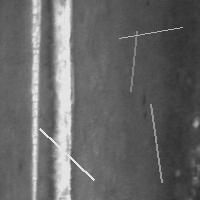scratches: (47, 1, 75, 199), (34, 123, 98, 184), (29, 1, 44, 199), (146, 99, 167, 187), (114, 22, 187, 43), (126, 26, 142, 96), (138, 86, 151, 121)
